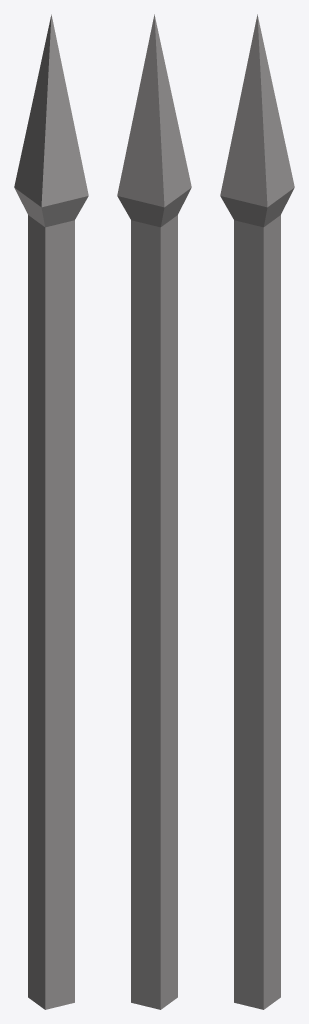
File: MetalSpike_3.fbx
The picture shows the model from 3 angles, left to right: view 1: azimuth 30°, elevation 25°; view 2: azimuth 150°, elevation 25°; view 3: azimuth 330°, elevation 25°; orthographic projection.
Parts seen in each view (by area): view 1: MetalSpike_3; view 2: MetalSpike_3; view 3: MetalSpike_3.
Part boxes in pixels (bbox=[...]): MetalSpike_3: bbox=[14, 14, 88, 1009]; MetalSpike_3: bbox=[117, 14, 191, 1009]; MetalSpike_3: bbox=[220, 14, 294, 1009].
Size of the model in its own units: 4.11 by 81.8 by 4.11.
